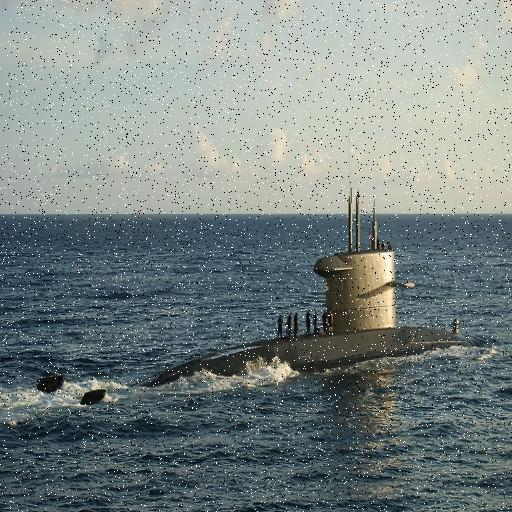submarine: (80, 190, 487, 409)
